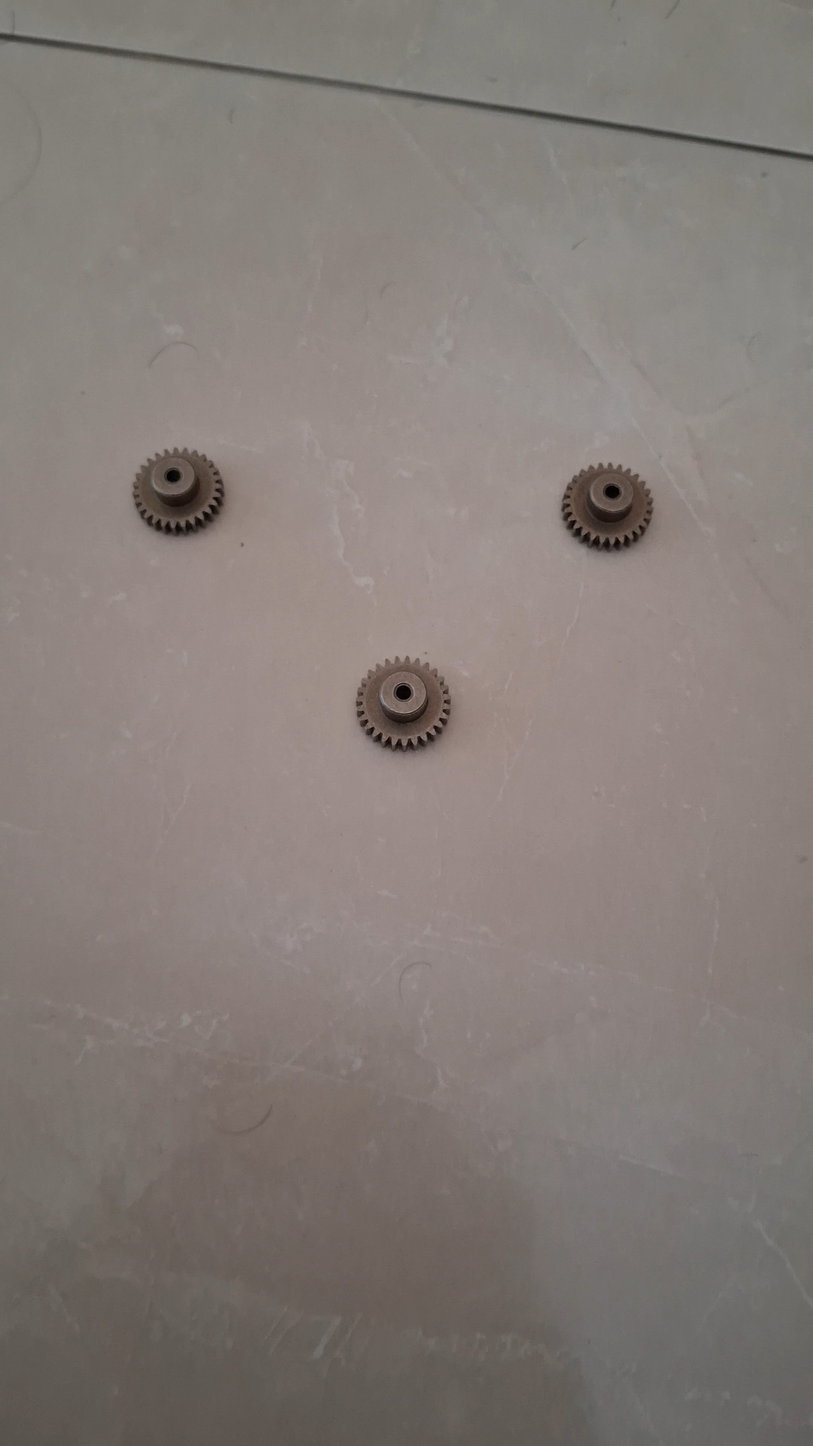spur gear: (356, 657, 450, 749), (134, 448, 224, 532), (562, 465, 653, 548)
